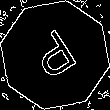P_SE: (26, 23, 84, 87)
